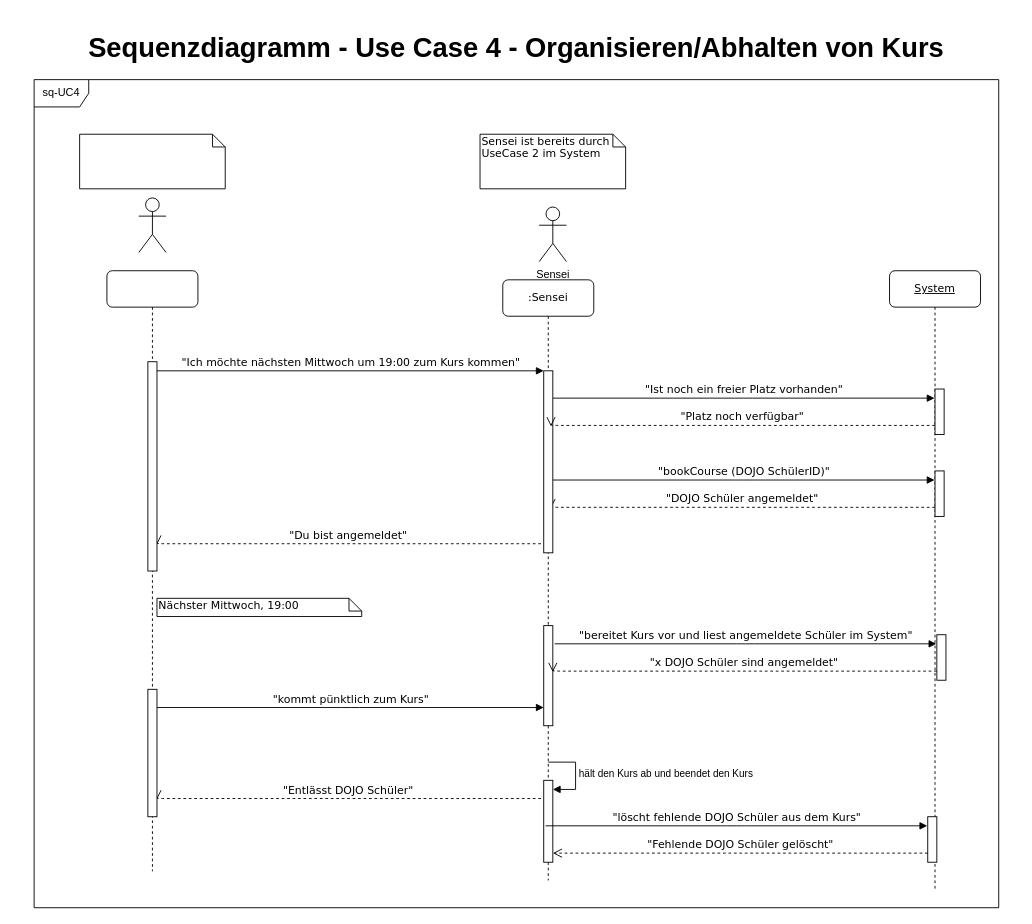
This 1032x924 diagram has some shape labels left out. Here are the shapes that lost their labels. From the top down, the box of each, then its label:
(79, 133, 225, 189): DOJO Schüler ist bereits durch UseCase 3 im System
(138, 197, 166, 253): DOJO Schüler
(106, 270, 198, 871): :DOJO Schüler
